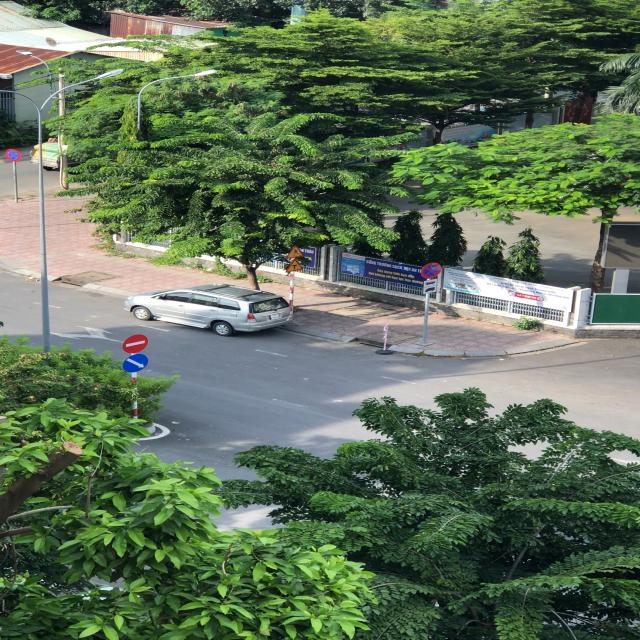Bien bao cam di nguoc chieu: (119, 332, 150, 354)
Bien bao duong giao nhau: (284, 258, 306, 274)
Bien bao duong nguoi di bo cat ngang: (286, 244, 308, 258)
Bien bao huong phai di vong chuong ngai vat: (119, 353, 151, 374)
